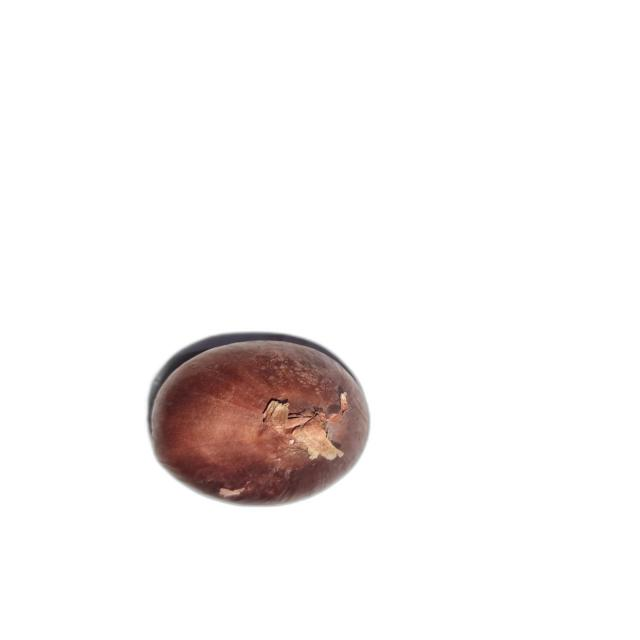onion: (150, 340, 371, 507)
